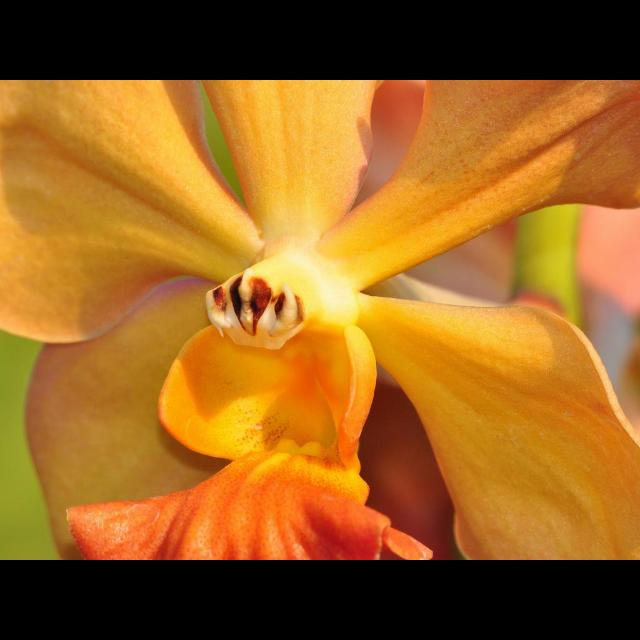Flower: (23, 80, 622, 540)
